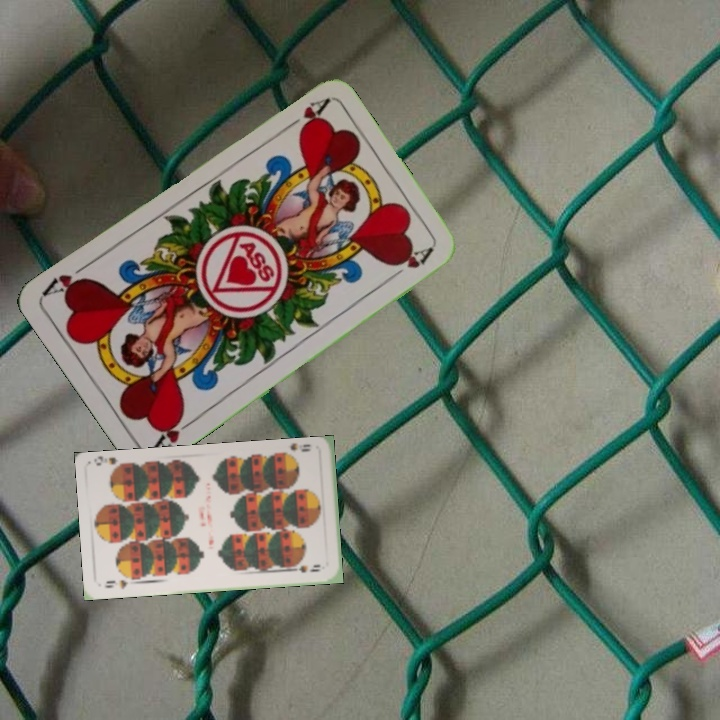HA: (147, 409, 198, 456), (278, 94, 331, 135)
S9: (278, 444, 312, 461), (100, 576, 131, 591)
